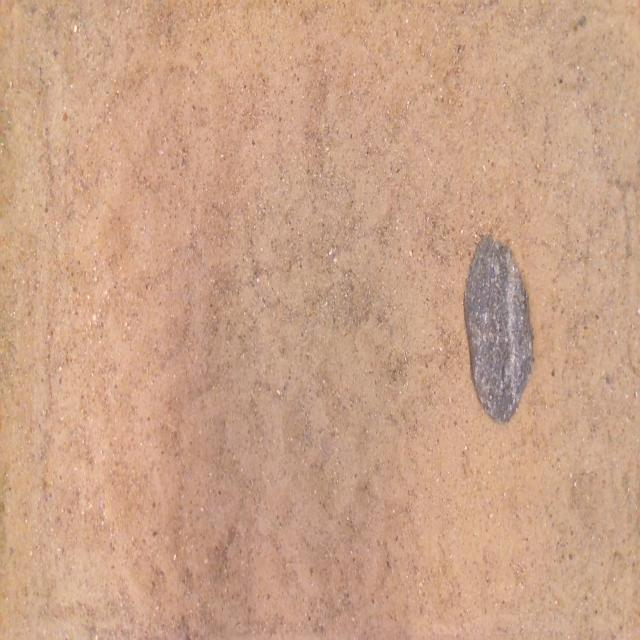rock: (464, 235, 532, 423)
